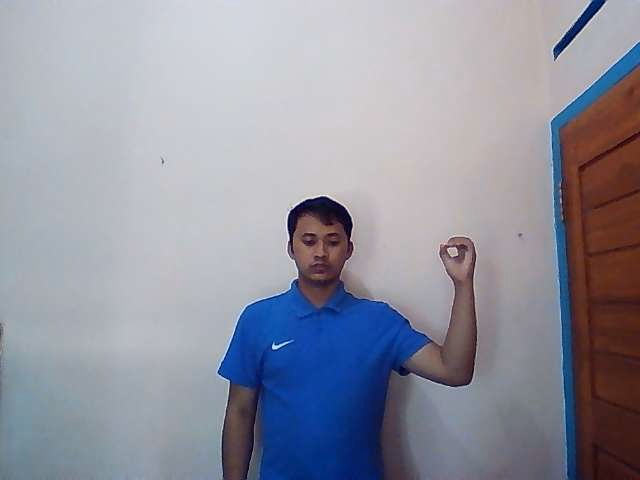O: (437, 236, 478, 285)
